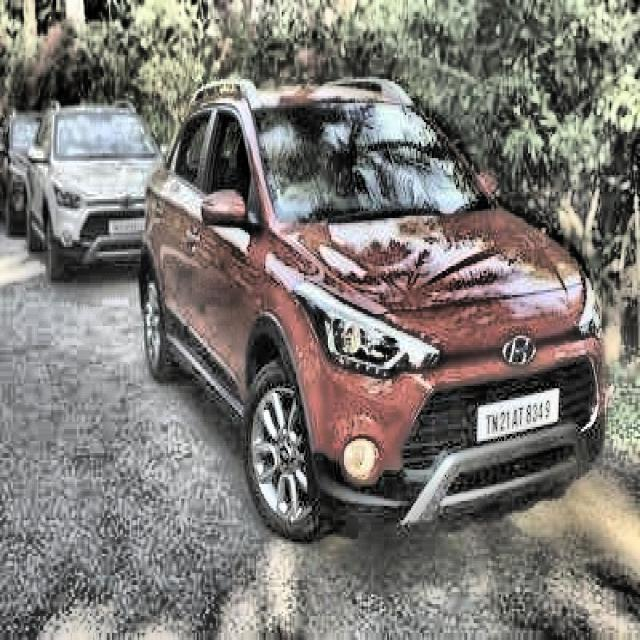license_plate: (479, 394, 553, 439), (110, 215, 147, 236)
